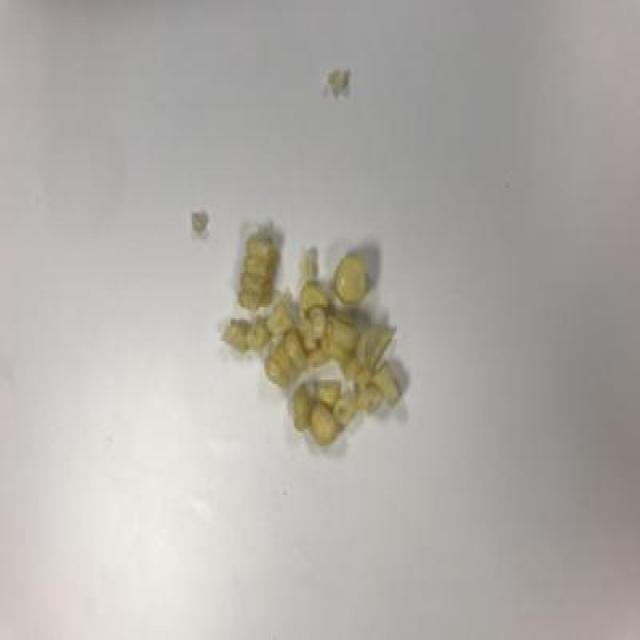compost: (206, 208, 426, 484)
